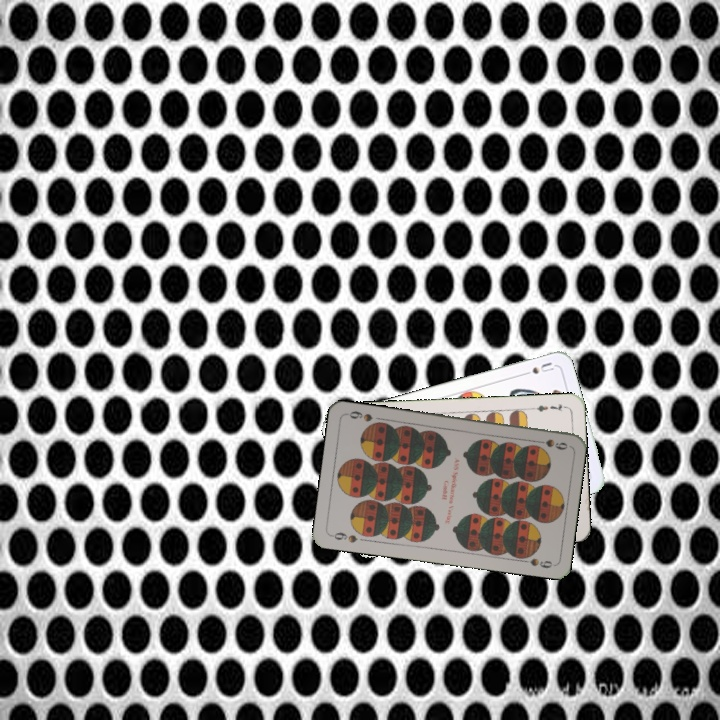E7: (528, 400, 569, 414)
S9: (530, 435, 570, 452), (327, 528, 360, 545)
SU: (517, 358, 557, 379)
